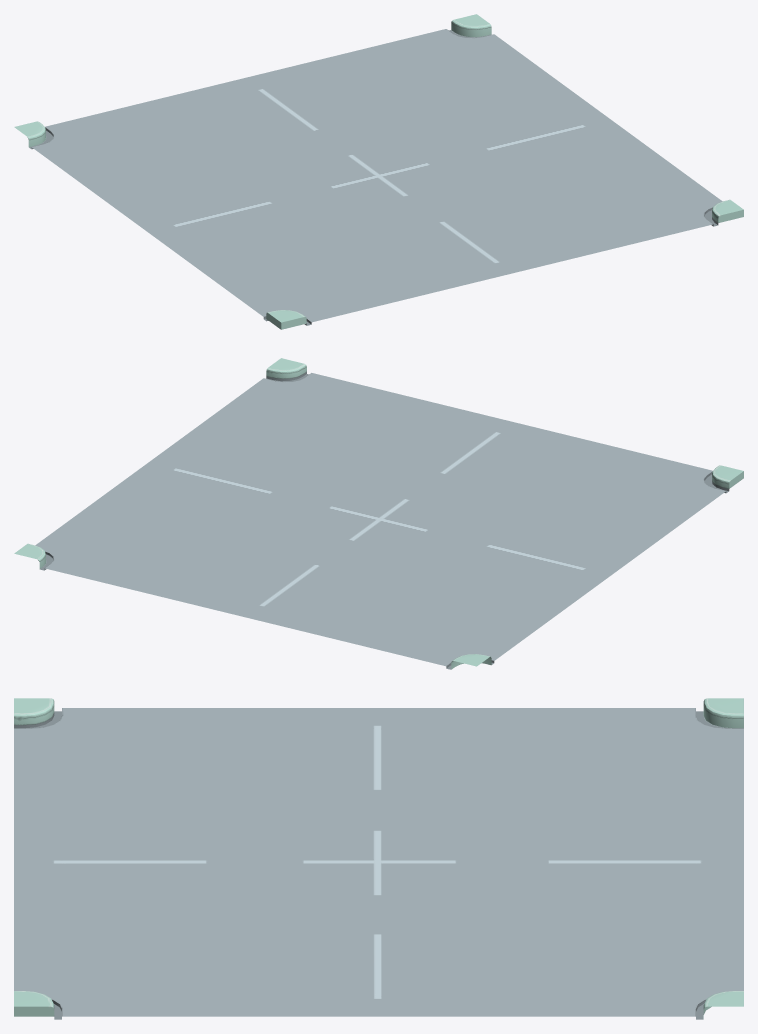
The model's file is 2X2Joint.fbx.
3 views of the same model, one above another, from view 1: azimuth 30°, elevation 25°; view 2: azimuth 150°, elevation 25°; view 3: azimuth 270°, elevation 25° (orthographic). The views are drawn at different scales.
Parts seen in each view (by area): view 1: pPlane5; view 2: pPlane5; view 3: pPlane5.
Part boxes in pixels (box(x1,y1,x2,y2)): pPlane5: box(14, 14, 743, 329); pPlane5: box(14, 358, 743, 669); pPlane5: box(14, 698, 743, 1019).
Size of the model in its own units: 2 by 0.0395 by 2.
1 material, 1 textured.
